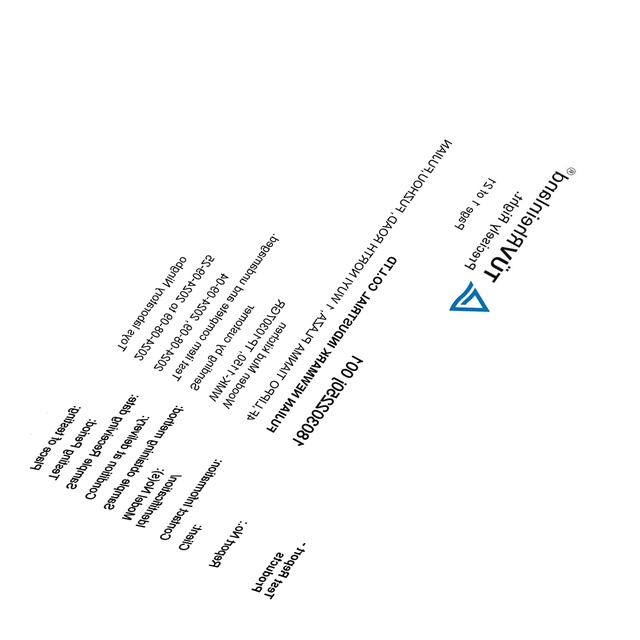tuv_rheinland: (443, 164, 581, 313)
